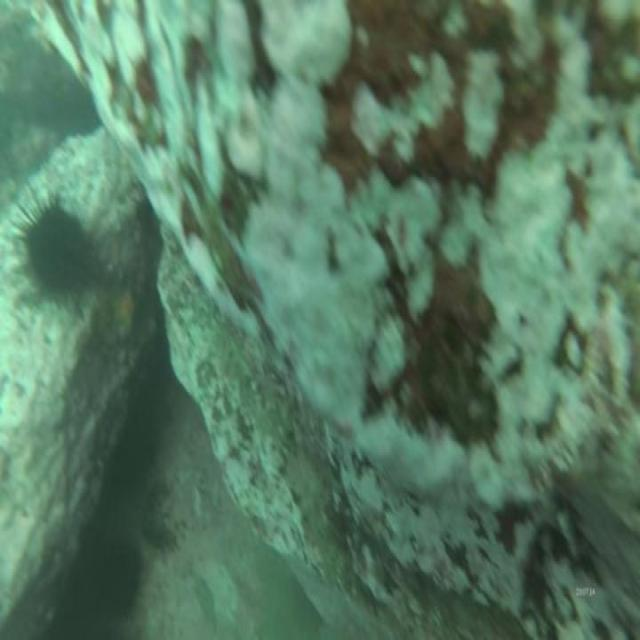echinus: (23, 199, 103, 307), (79, 522, 141, 613)
